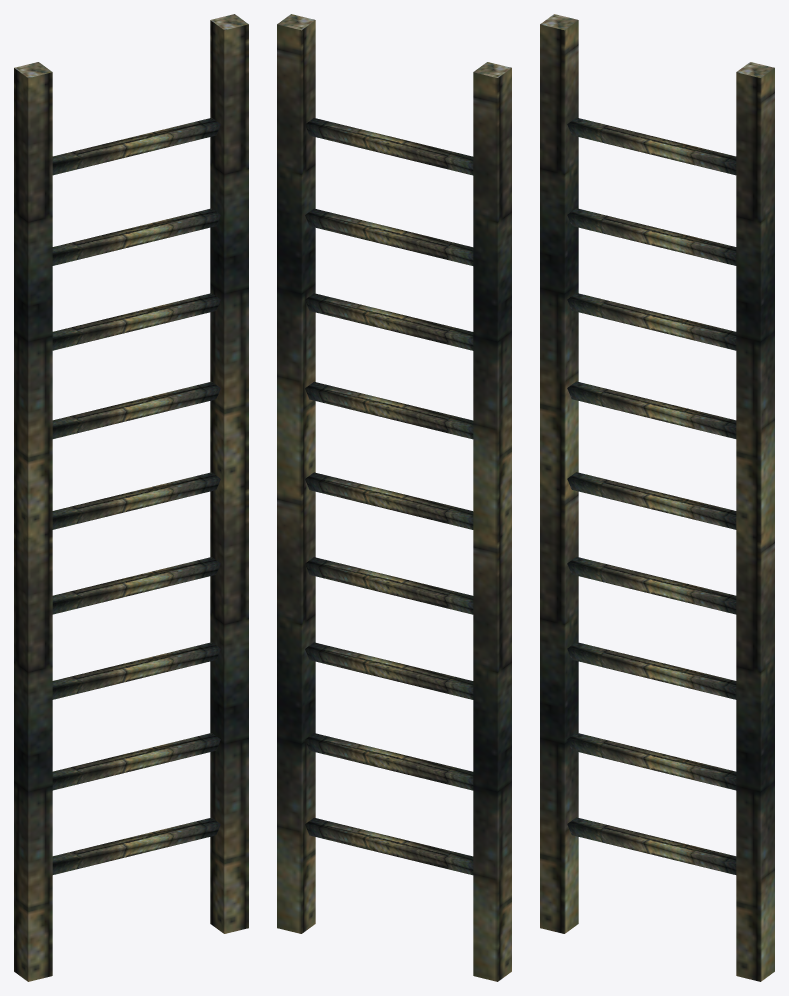
File: Stair01.glb
The picture shows the model from 3 angles, left to right: view 1: azimuth 30°, elevation 25°; view 2: azimuth 150°, elevation 25°; view 3: azimuth 330°, elevation 25°; orthographic projection.
Parts seen in each view (by area): view 1: Stair01; view 2: Stair01; view 3: Stair01.
Boxes of the visible parts, x1=… form: Stair01: x1=14, y1=14, x2=248, y2=981; Stair01: x1=277, y1=14, x2=511, y2=981; Stair01: x1=540, y1=14, x2=774, y2=981.
Size of the model in its own units: 0.8432 by 3.3 by 0.0938.
1 material, 1 textured.
